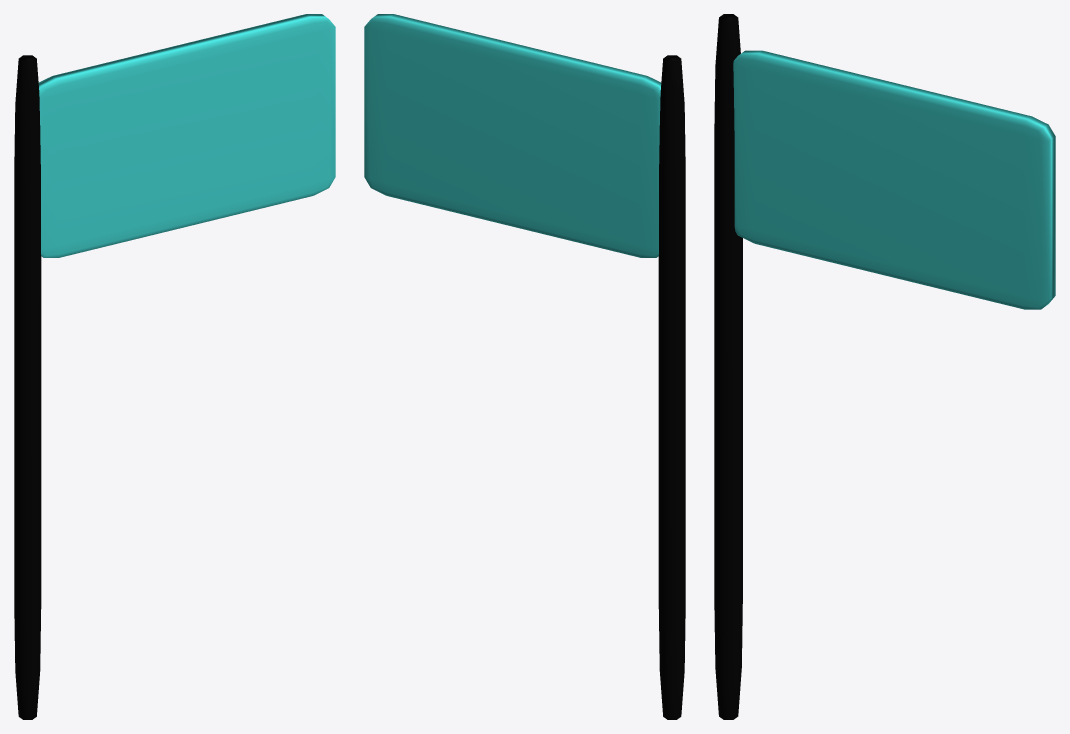
Rendered from Flag.fbx.
3 views of the same model, side by side, from view 1: azimuth 30°, elevation 25°; view 2: azimuth 150°, elevation 25°; view 3: azimuth 330°, elevation 25° (orthographic). The views are drawn at different scales.
Parts seen in each view (by area): view 1: Cube, Цилиндр; view 2: Cube, Цилиндр; view 3: Cube, Цилиндр.
Part boxes in pixels (left/top/right/bottom): Cube: left=38, top=14, right=335, bottom=257; Цилиндр: left=14, top=55, right=41, bottom=719; Cube: left=364, top=14, right=661, bottom=257; Цилиндр: left=658, top=55, right=685, bottom=719; Cube: left=733, top=50, right=1055, bottom=309; Цилиндр: left=714, top=14, right=742, bottom=719.
Size of the model in its own units: 373 by 744 by 27.52.
